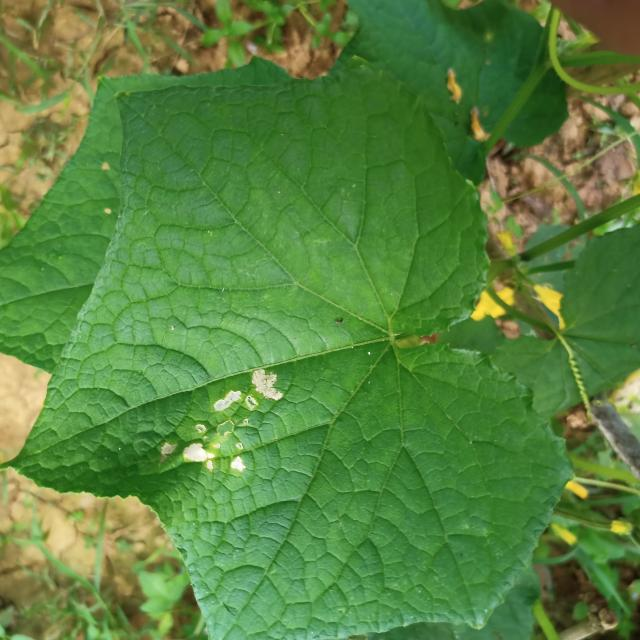disease_cucumber: (158, 358, 286, 478)
